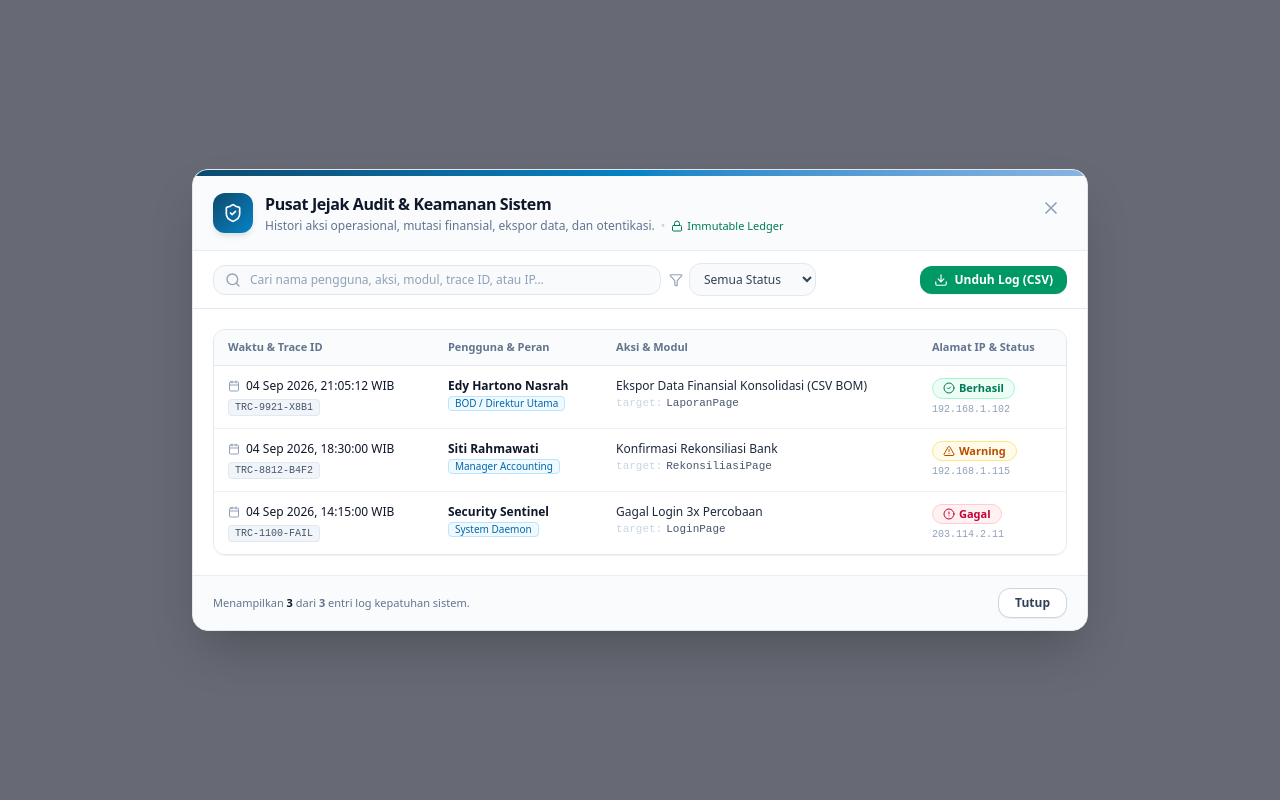
Test: Smart Notification Center & Audit Trail Tests › AuditLogModal Component › filters logs by search query (user, action, traceId, ip)
Note: Search by user name
Type "Edy" into the field with test id "audit-search-input" at x=437, y=280, box [213, 265, 661, 295]
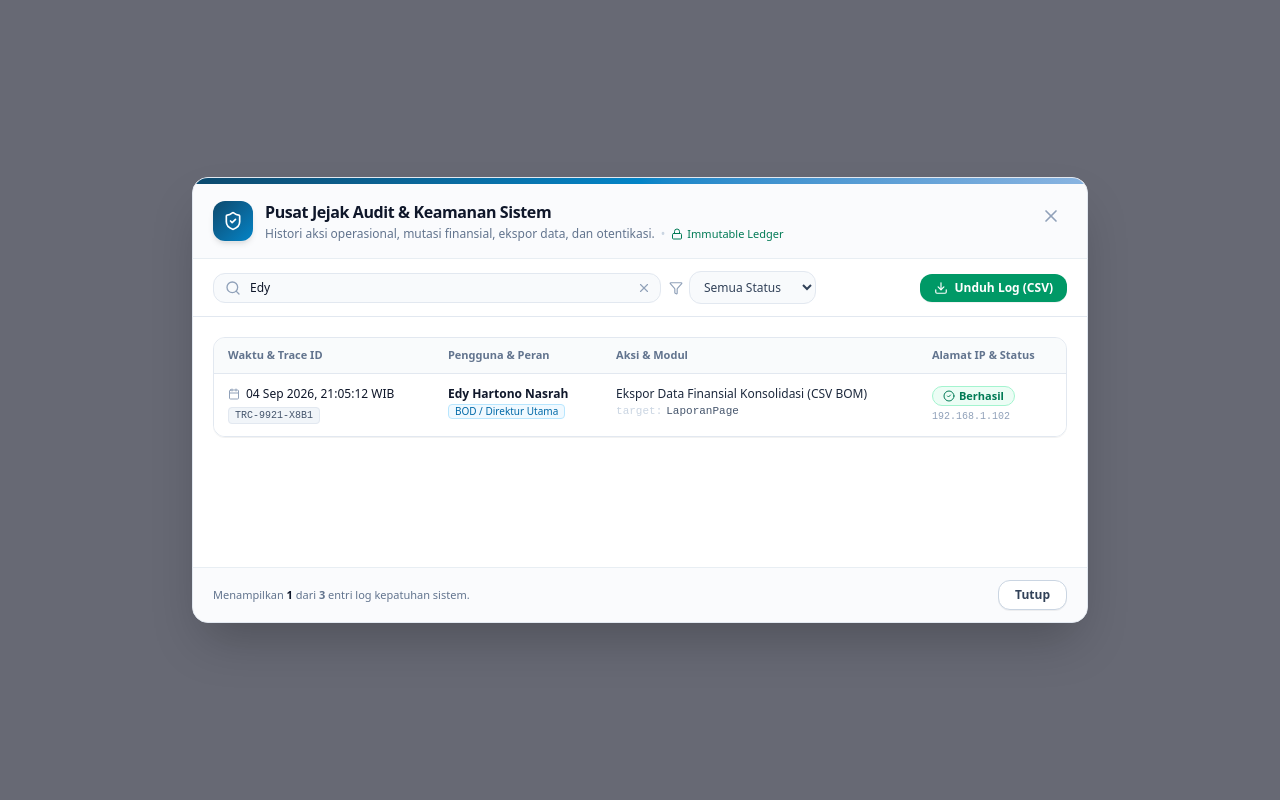
Expected: the row with test id "audit-row-aud-1" is shown, [214, 373, 1066, 436]
Expected: the row with test id "audit-row-aud-2" is gone
Note: Search by trace ID
Replace the text in the field with test id "audit-search-input" with "TRC-8812" at x=437, y=288, box [213, 272, 661, 302]
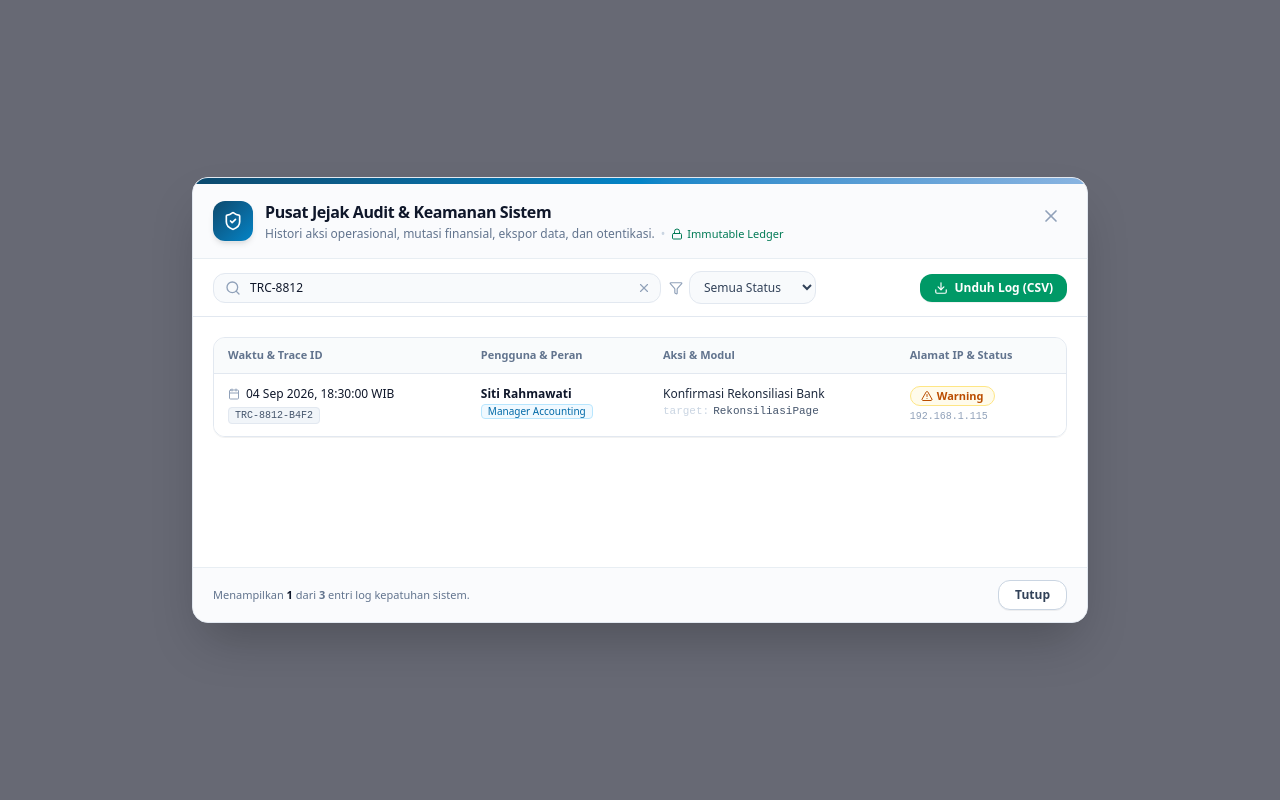
Expected: the row with test id "audit-row-aud-1" is gone
Expected: the row with test id "audit-row-aud-2" is shown, [214, 373, 1066, 436]
Note: Search with non-matching term shows empty state
Replace the text in the field with test id "audit-search-input" with "TidakKetemuXYZ" at x=437, y=288, box [213, 272, 661, 302]
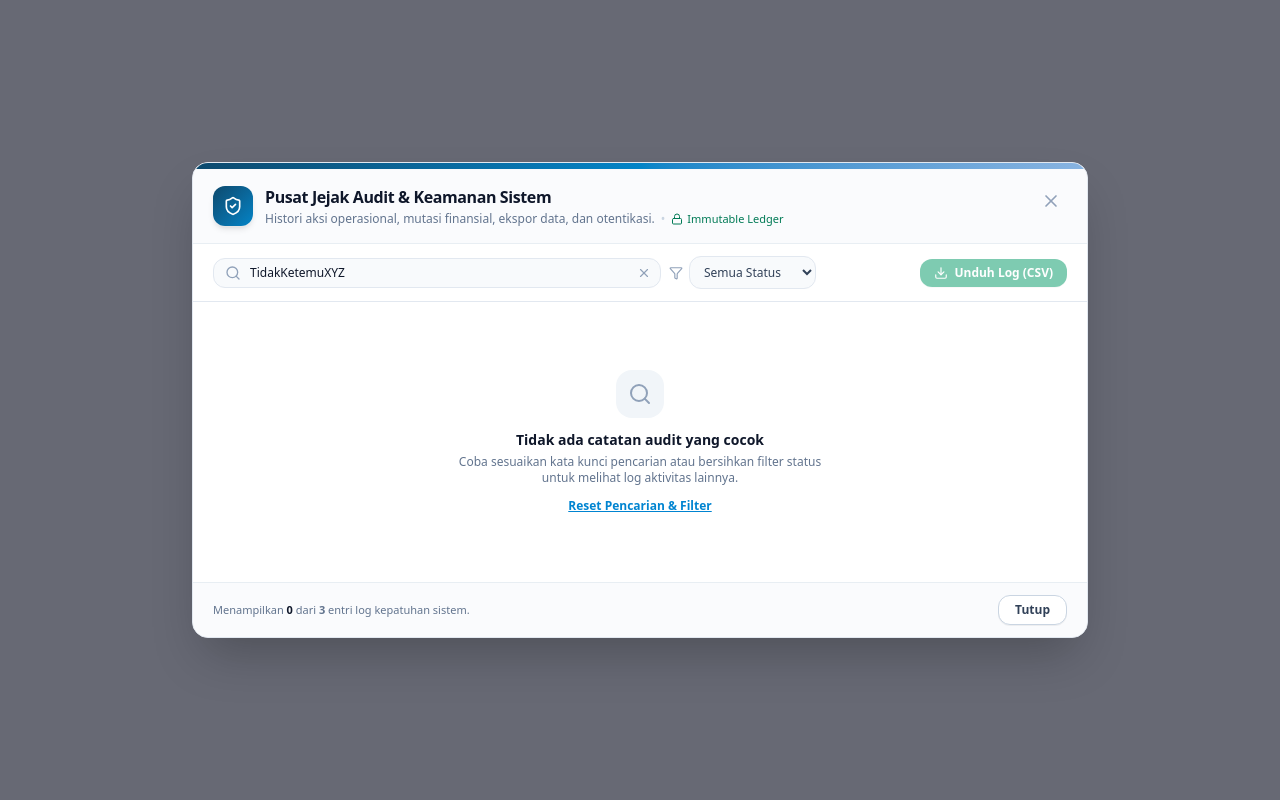
Expected: the element with test id "audit-empty-state" is shown, [459, 370, 821, 514]
Expected: the heading "Tidak ada catatan audit yang cocok" is shown, [516, 430, 764, 450]
